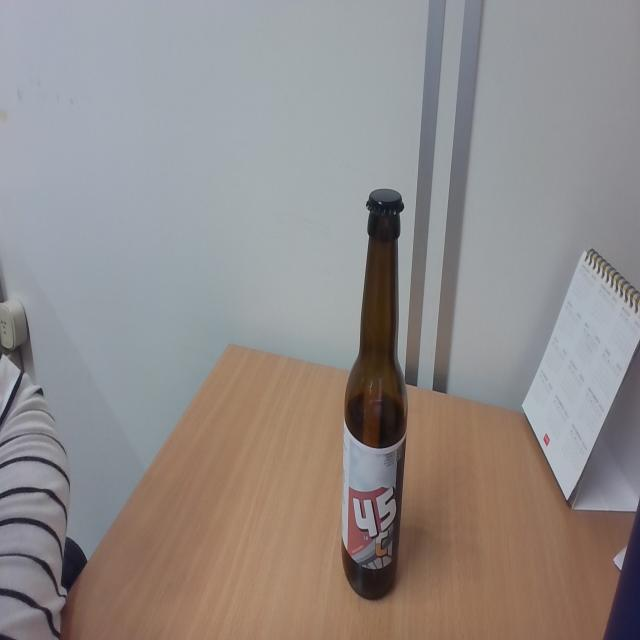Bottle: (342, 186, 407, 598)
Cap: (362, 185, 406, 220)
Label: (344, 433, 402, 570)
